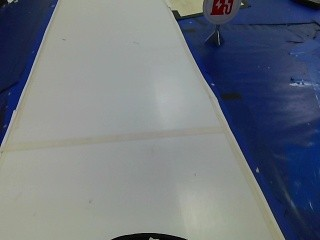battery: (195, 0, 239, 24)
